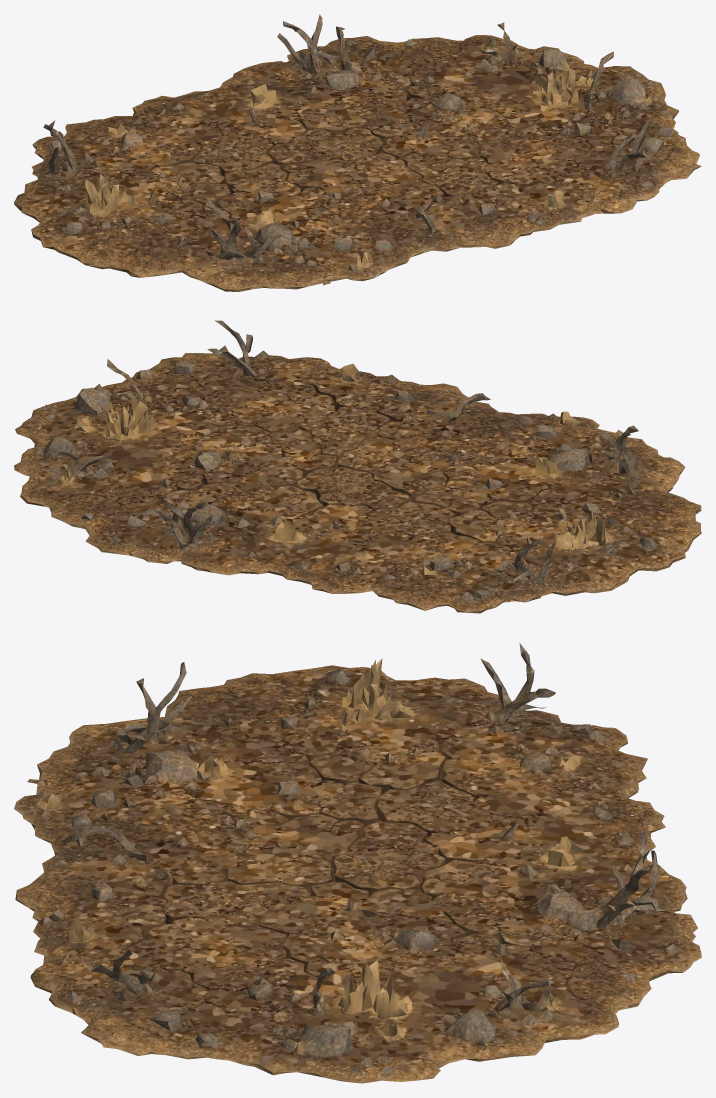
The model's file is boss_patch_lite.glb.
The picture shows the model from 3 angles, top to bottom: view 1: azimuth 30°, elevation 25°; view 2: azimuth 150°, elevation 25°; view 3: azimuth 270°, elevation 25°; orthographic projection. The views are drawn at different scales.
Parts seen in each view (by area): view 1: geometry_0; view 2: geometry_0; view 3: geometry_0.
Boxes of the visible parts, x1,y1,x2,y2 form: geometry_0: (14,14,701,291); geometry_0: (14,320,701,613); geometry_0: (14,643,701,1083).
Bounding box in the file's own units: 1.91 × 0.1719 × 1.33.
Materials: 1 (1 with a texture image).
